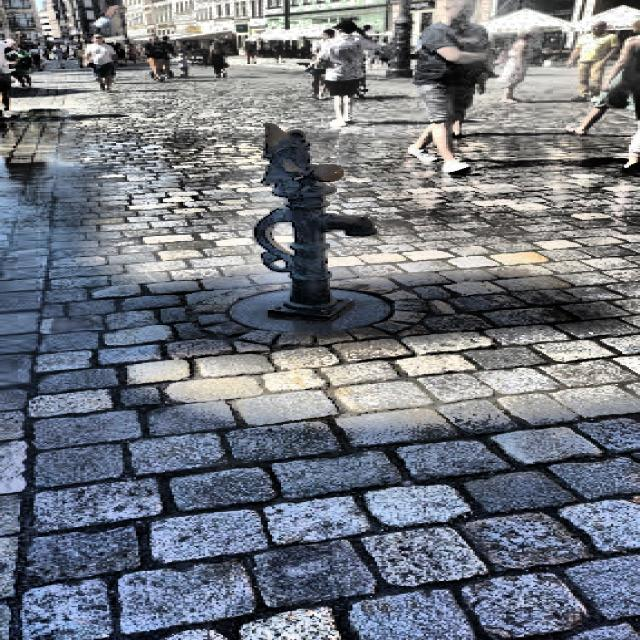Orzezwiacz: (256, 125, 372, 320)
